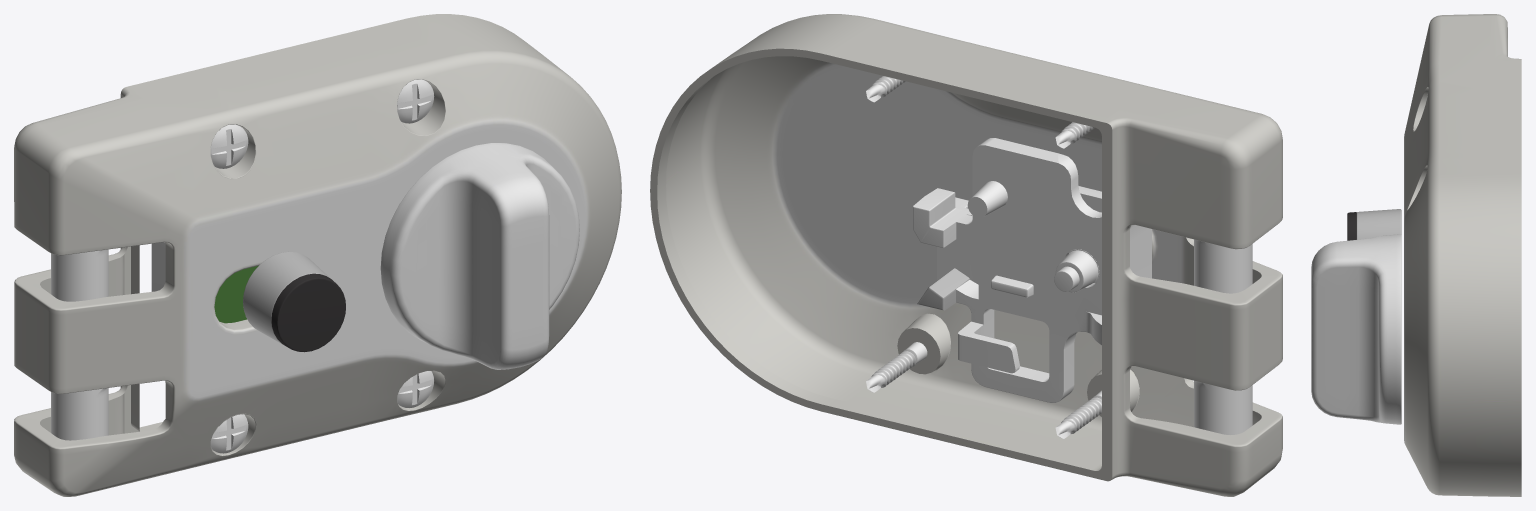
3 renders of one model, left to right at view 1: azimuth 30°, elevation 25°; view 2: azimuth 150°, elevation 25°; view 3: azimuth 270°, elevation 25°, orthographic. The views are drawn at different scales.
Visible parts, largest first — view 1: Lock_4290; view 2: Lock_4290; view 3: Lock_4290.
Boxes of the visible parts, x1,y1,x2,y2 form: Lock_4290: (14,14,621,496); Lock_4290: (650,14,1282,496); Lock_4290: (1311,14,1521,496).
Size of the model in its own units: 0.1264 by 0.074 by 0.0465.
Materials: 1 (1 with a texture image).
